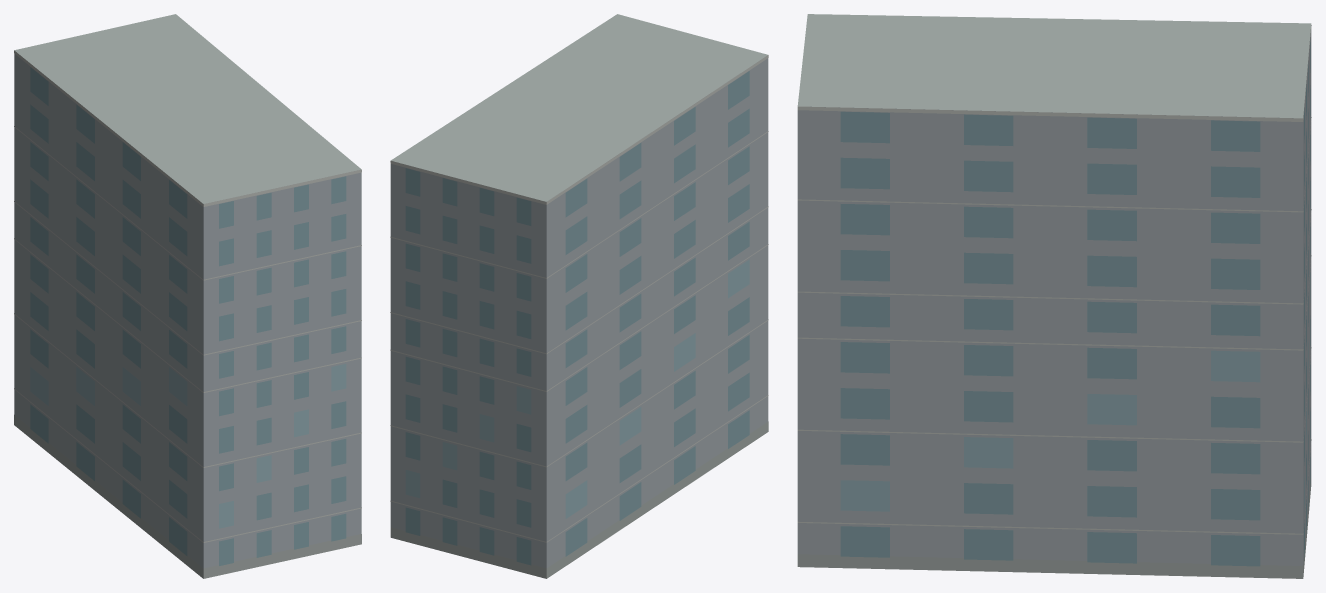
Rendered from residential-313d4a22-9de4-4962-92e6-5c4d4f9f0c06.glb.
3 renders of one model, left to right at view 1: azimuth 30°, elevation 25°; view 2: azimuth 150°, elevation 25°; view 3: azimuth 270°, elevation 25°, orthographic. The views are drawn at different scales.
Parts seen in each view (by area): view 1: residential-313d4a22-9de4-4962-92e6-5c4d4f9f0c06.tmp; view 2: residential-313d4a22-9de4-4962-92e6-5c4d4f9f0c06.tmp; view 3: residential-313d4a22-9de4-4962-92e6-5c4d4f9f0c06.tmp.
Boxes of the visible parts, bbox=[...] form: residential-313d4a22-9de4-4962-92e6-5c4d4f9f0c06.tmp: bbox=[14, 14, 361, 578]; residential-313d4a22-9de4-4962-92e6-5c4d4f9f0c06.tmp: bbox=[390, 14, 768, 578]; residential-313d4a22-9de4-4962-92e6-5c4d4f9f0c06.tmp: bbox=[797, 14, 1311, 578].
Size of the model in its own units: 14.6 by 30 by 30.35.
